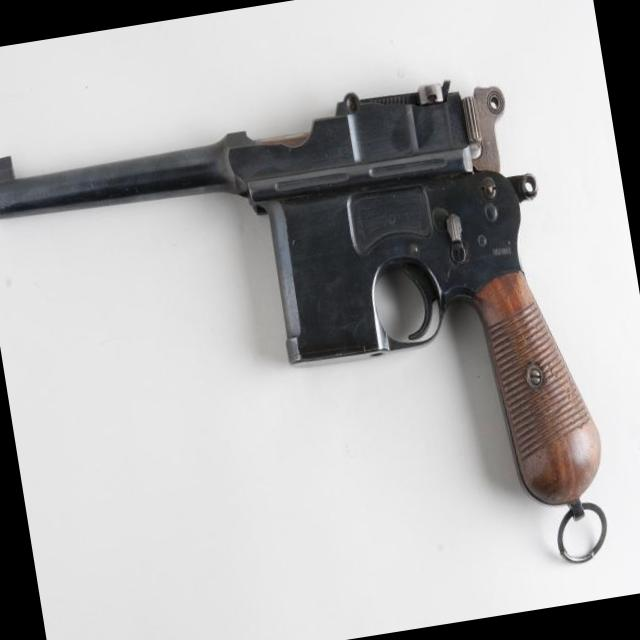Gun: (0, 82, 599, 504)
